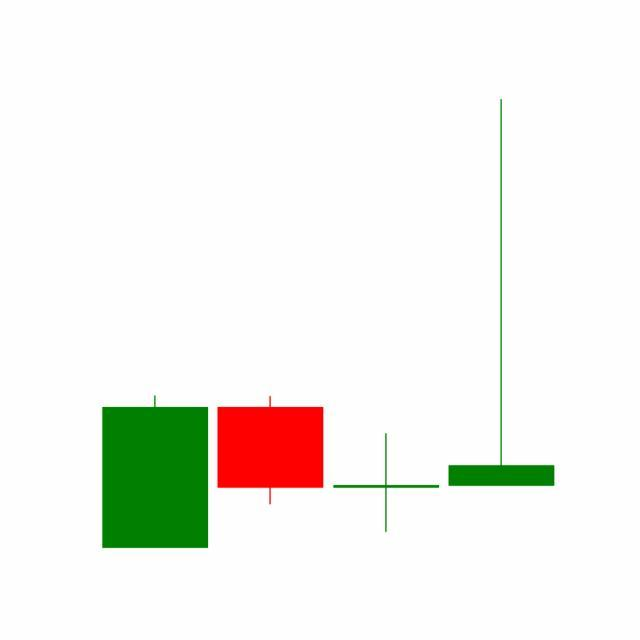Spinning Top: (329, 432, 445, 534)
